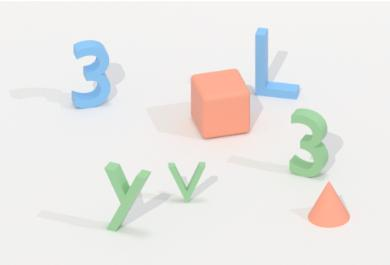0-KhoiVuong: (186, 65, 255, 142)
0-TamGiac: (305, 180, 352, 230)
3: (287, 105, 331, 181), (70, 38, 113, 112)
L: (250, 24, 303, 102)
V: (164, 158, 208, 205)
y: (98, 160, 153, 236)
